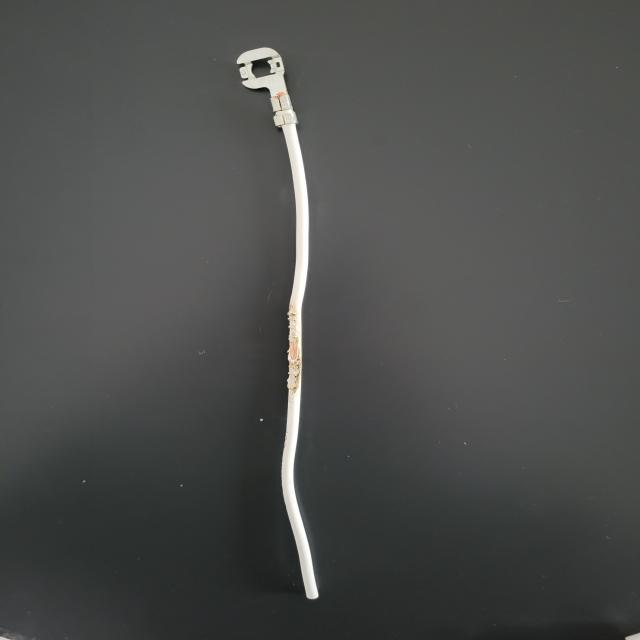defect: (182, 247, 424, 412)
